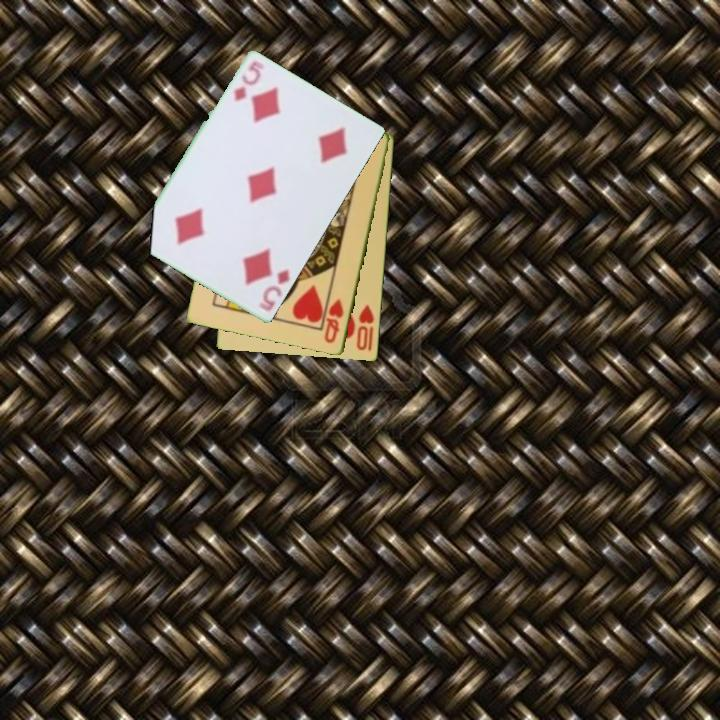10h: (353, 301, 377, 354)
5d: (255, 265, 293, 315), (230, 58, 263, 104)
Qh: (321, 295, 347, 346)
